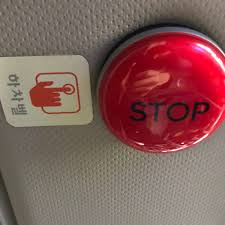bell: (97, 24, 225, 160)
